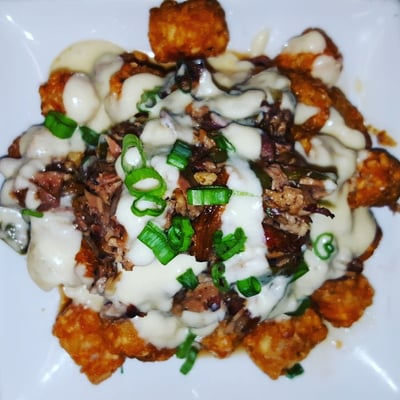sandwich: (1, 6, 398, 394)
